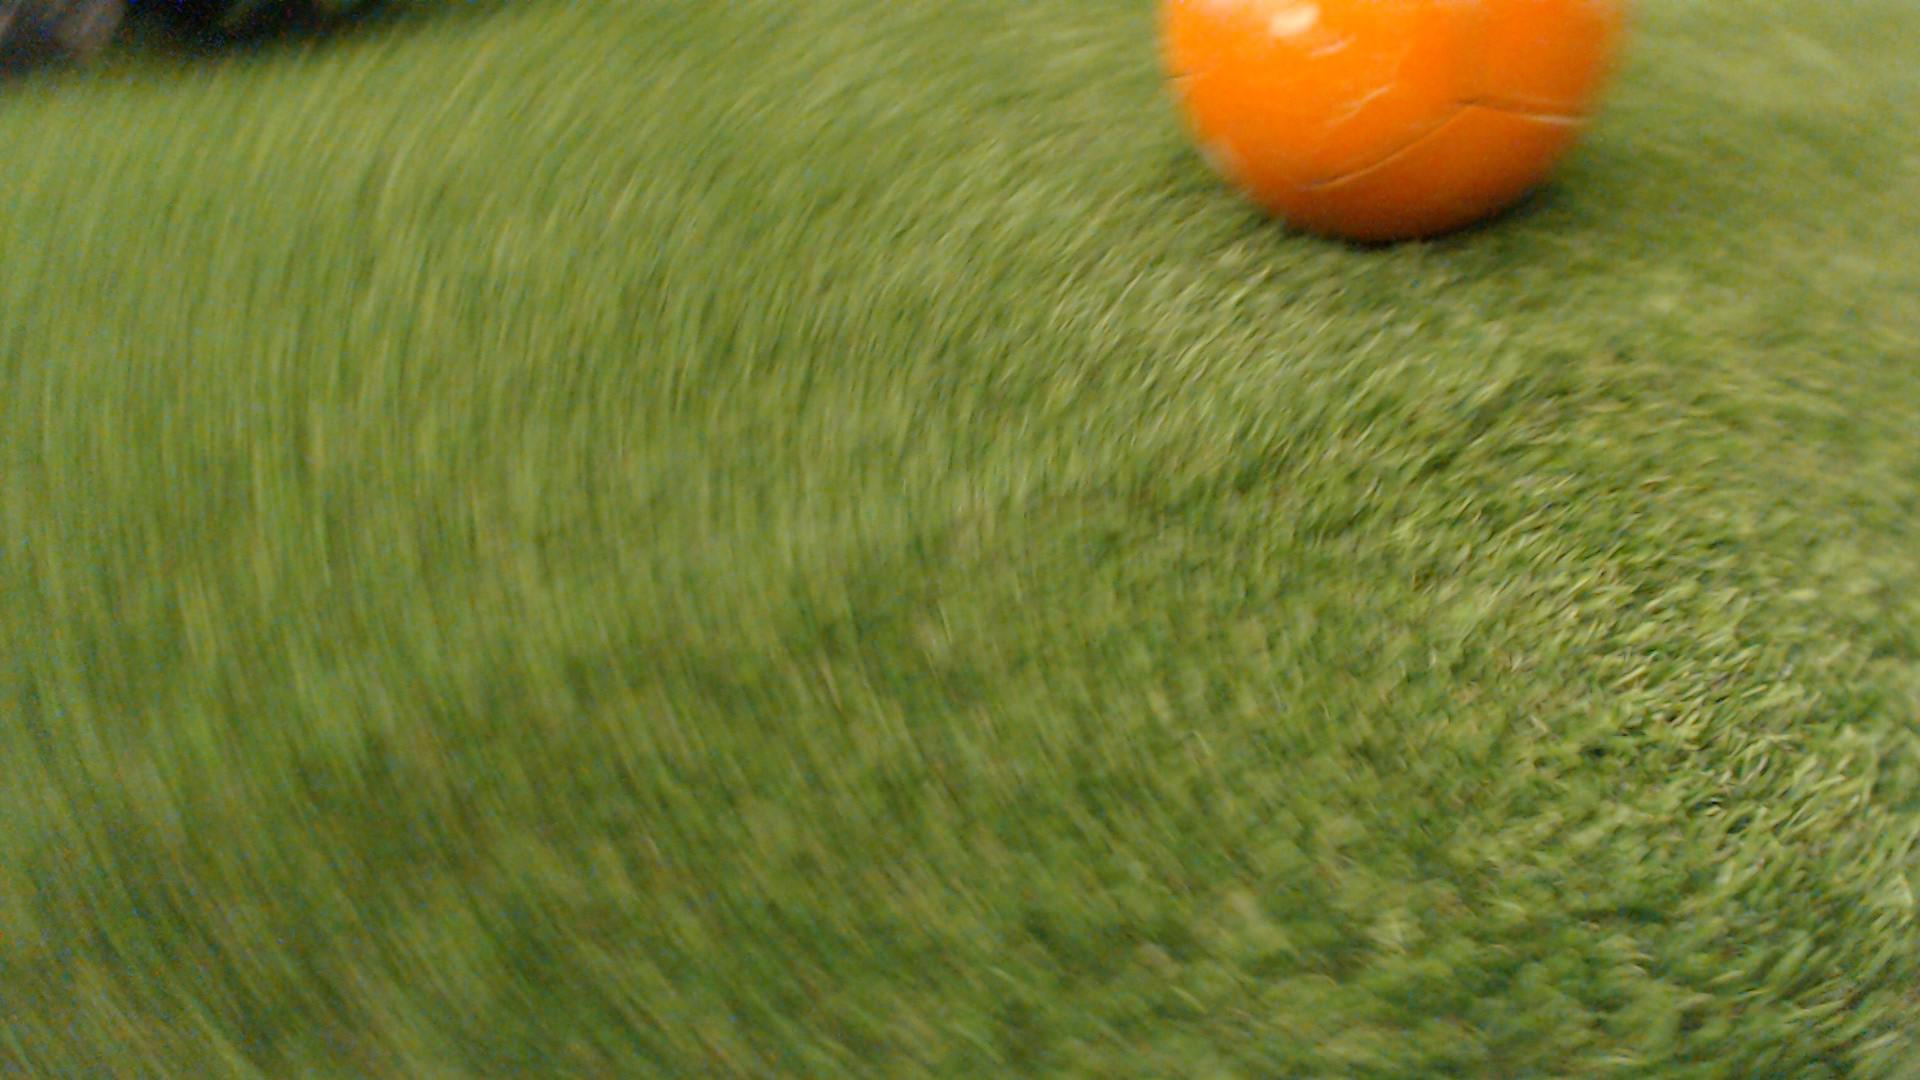bola: (1127, 0, 1701, 291)
